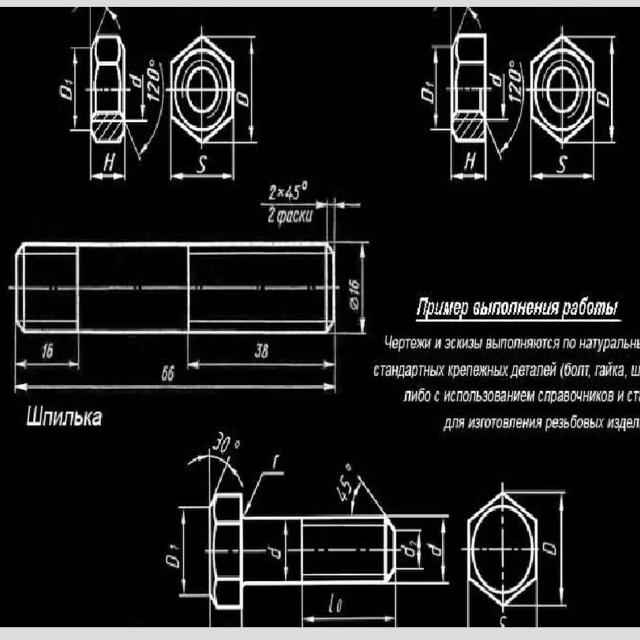marking_line: (15, 335, 338, 392), (186, 335, 337, 371), (395, 513, 450, 589), (261, 200, 363, 240), (300, 586, 398, 626), (126, 61, 164, 162), (488, 62, 523, 161), (336, 239, 370, 337), (539, 490, 566, 609), (177, 505, 210, 598), (235, 34, 258, 145), (527, 145, 596, 182), (167, 145, 236, 181), (595, 36, 617, 145), (15, 335, 83, 369), (187, 455, 244, 492), (244, 470, 285, 515), (69, 45, 89, 133), (431, 44, 450, 132), (449, 145, 490, 182), (88, 144, 128, 180), (350, 474, 385, 514), (396, 527, 425, 571), (73, 10, 121, 33), (127, 74, 148, 123), (488, 74, 509, 123), (451, 7, 483, 33), (283, 522, 289, 581)
numeric: (462, 151, 477, 170), (103, 152, 116, 171), (197, 154, 209, 174), (507, 80, 523, 95), (340, 474, 352, 494), (426, 542, 441, 558), (212, 431, 223, 452), (236, 91, 249, 108), (557, 154, 568, 174), (421, 88, 434, 104), (60, 84, 72, 101), (166, 555, 180, 569), (597, 92, 609, 108), (336, 486, 348, 502), (272, 451, 282, 470), (148, 67, 161, 81), (509, 69, 522, 83), (269, 546, 282, 560), (489, 73, 501, 88), (507, 94, 523, 105), (221, 435, 231, 452), (146, 91, 159, 104), (544, 543, 557, 556), (129, 73, 141, 87), (148, 81, 160, 94), (402, 546, 415, 558), (293, 184, 302, 201), (268, 207, 277, 224), (254, 341, 263, 358), (261, 342, 270, 359), (268, 184, 277, 200), (284, 186, 293, 202), (328, 592, 334, 613), (348, 278, 359, 289), (162, 364, 169, 381), (168, 364, 175, 381), (500, 613, 507, 628), (349, 287, 360, 296), (408, 538, 417, 549), (41, 343, 47, 359), (424, 80, 434, 89), (336, 598, 342, 613), (48, 343, 53, 359), (169, 543, 179, 550), (64, 80, 73, 86)
special_symbol: (348, 296, 359, 311), (277, 188, 285, 197), (345, 463, 352, 472), (149, 58, 155, 68), (302, 181, 308, 191), (235, 440, 241, 450)
